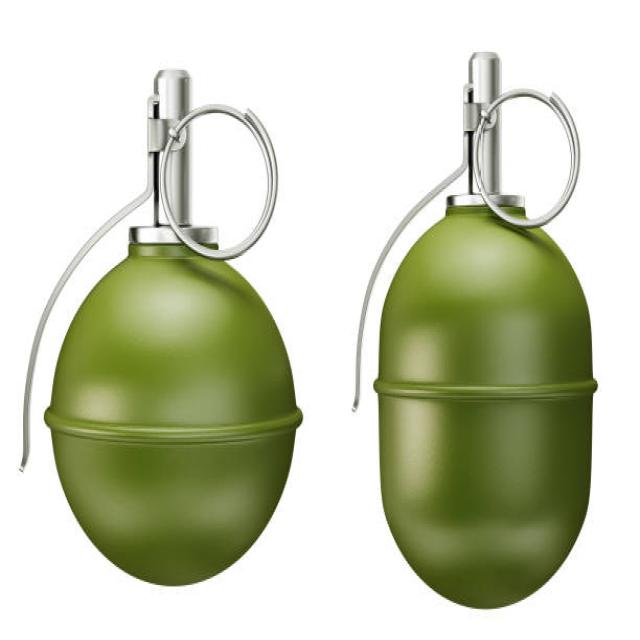grenade: (340, 40, 611, 620), (20, 57, 306, 598)
